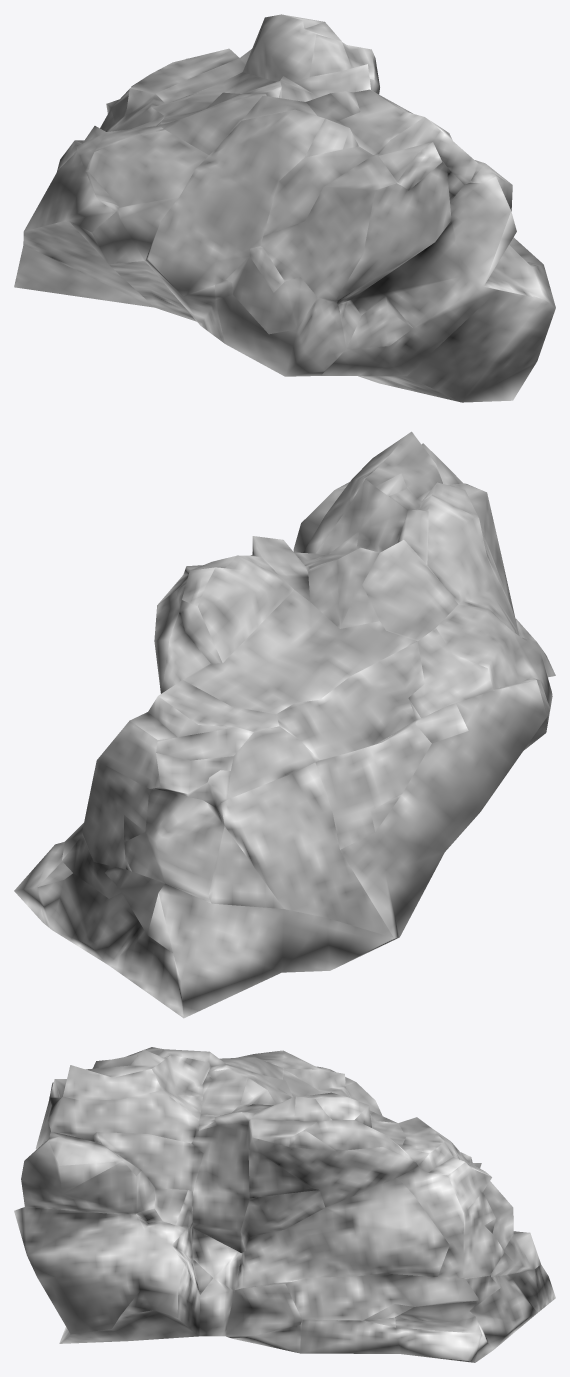
The model's file is boulder-quarried-fractured-lod2.glb.
3 views of the same model, one above another, from view 1: azimuth 30°, elevation 25°; view 2: azimuth 150°, elevation 25°; view 3: azimuth 270°, elevation 25° (orthographic). The views are drawn at different scales.
Parts seen in each view (by area): view 1: boulder_01; view 2: boulder_01; view 3: boulder_01.
Part boxes in pixels (box(x1,y1,x2,y2)): boulder_01: box(14, 14, 555, 402); boulder_01: box(14, 431, 555, 1018); boulder_01: box(14, 1047, 555, 1362).
Size of the model in its own units: 1.26 by 0.9786 by 1.81.
1 material, 1 textured.
